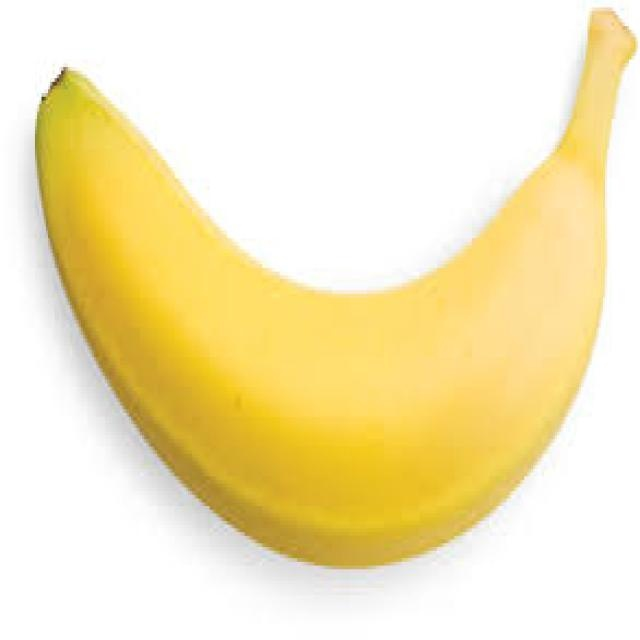agrume: (30, 0, 640, 584)
